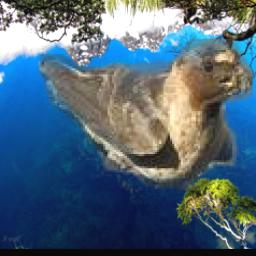Swallow: (38, 40, 252, 192)
